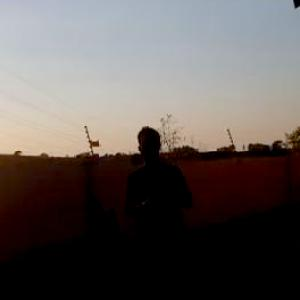follow: (118, 119, 207, 299)
